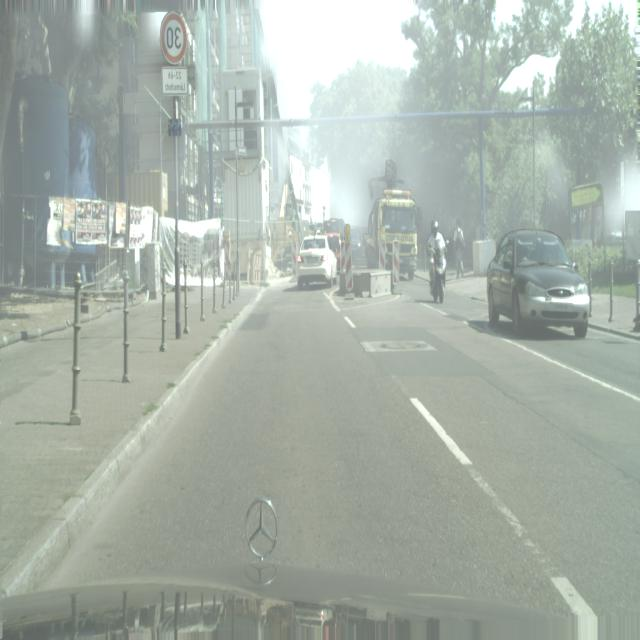bus: (429, 213, 447, 304)
person: (454, 221, 465, 279)
rider: (364, 166, 418, 281)
truck: (486, 229, 590, 338), (297, 234, 338, 290), (350, 226, 365, 260)
